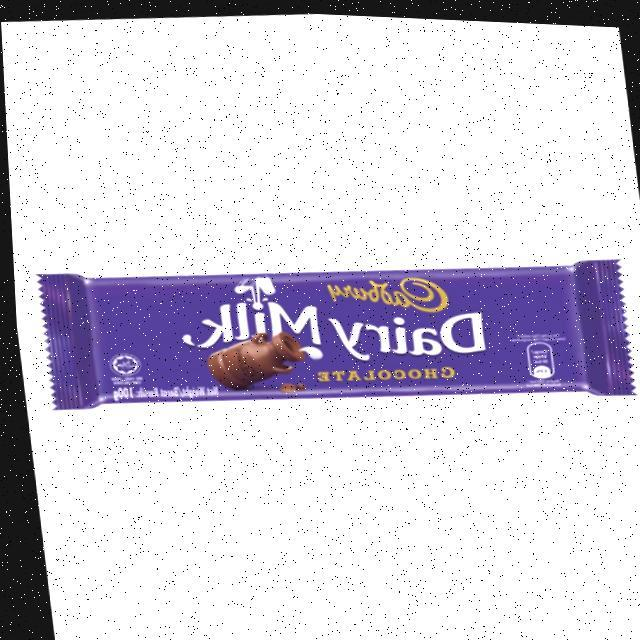cadbury_chocolate: (44, 273, 624, 405)
